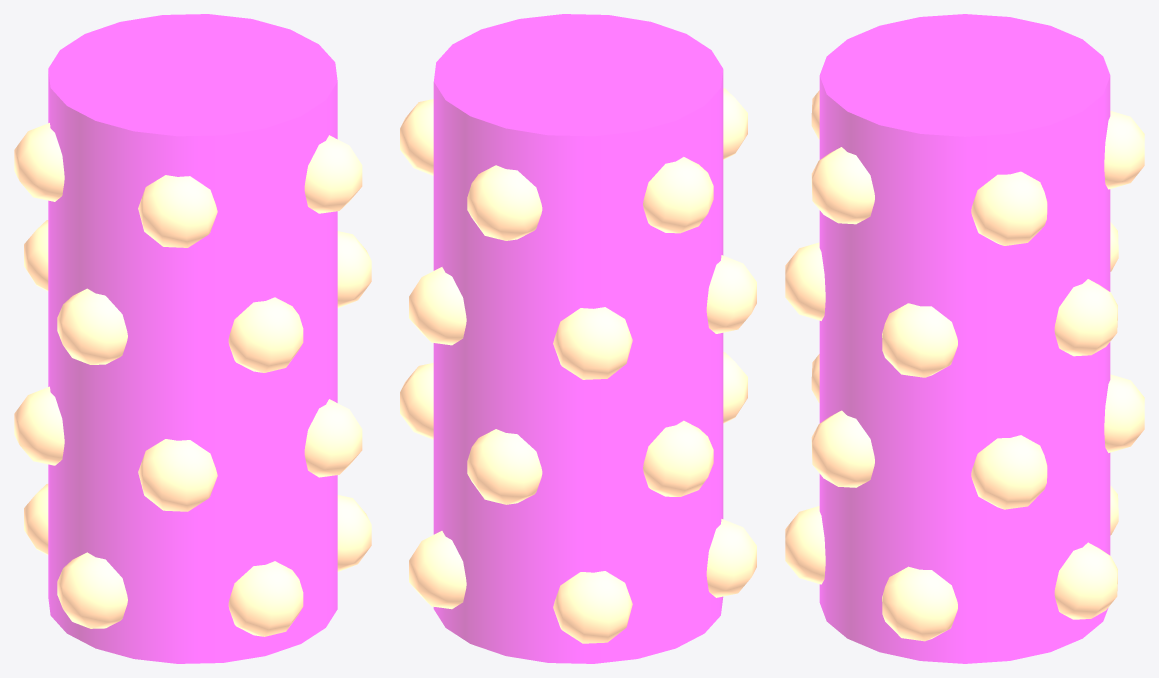
File: SM_Cylinder_Obstacle.fbx
3 views of the same model, side by side, from view 1: azimuth 30°, elevation 25°; view 2: azimuth 150°, elevation 25°; view 3: azimuth 270°, elevation 25° (orthographic).
Visible parts, largest first — view 1: Cylinder_Obstacle; view 2: Cylinder_Obstacle; view 3: Cylinder_Obstacle.
Part boxes in pixels (<box>): Cylinder_Obstacle: <box>14,14,371,663</box>; Cylinder_Obstacle: <box>400,14,756,663</box>; Cylinder_Obstacle: <box>785,14,1144,663</box>.
Bounding box in the file's own units: 1.8 × 3 × 1.85.
